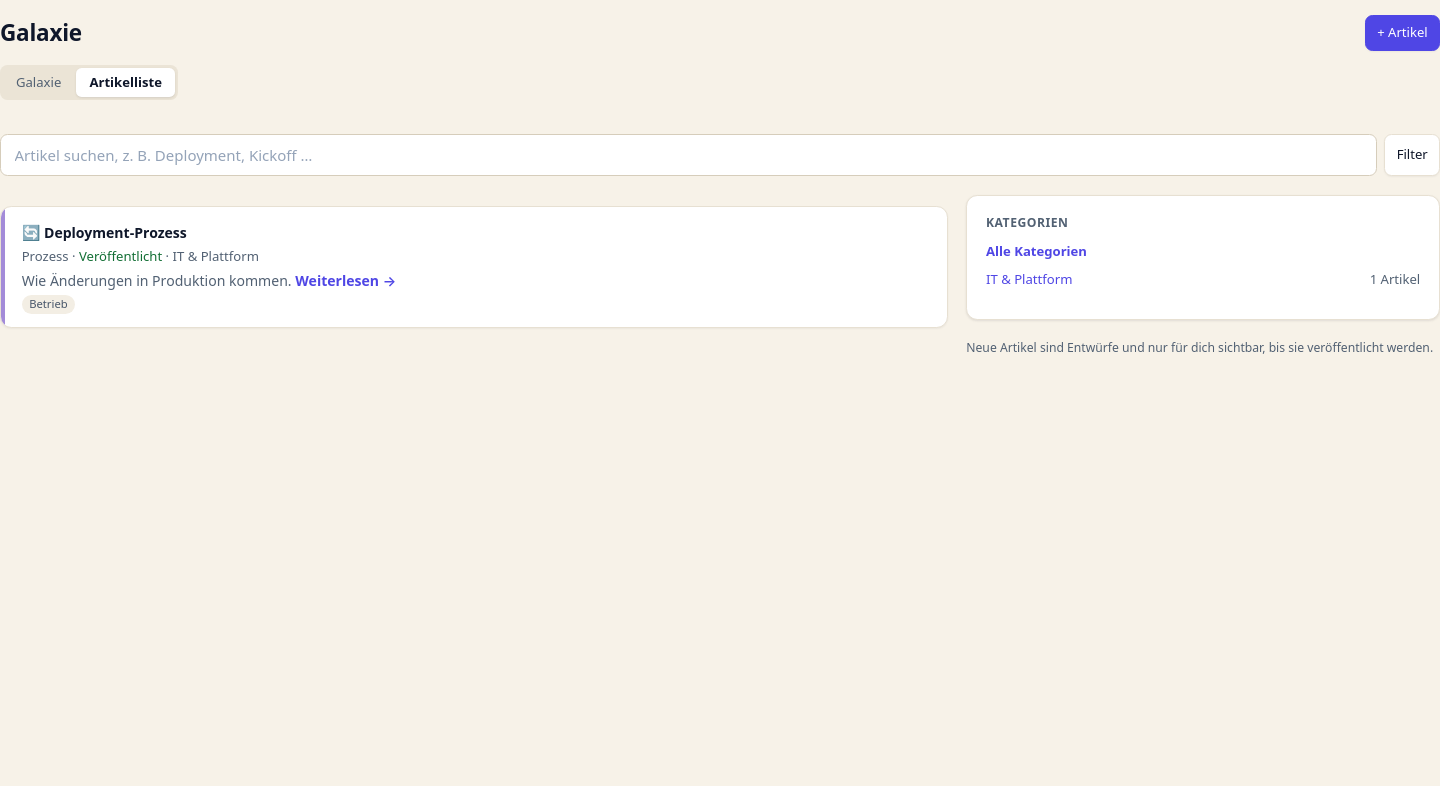
Test: KnowledgePage › renders blocks as text and resolves references the reader can see
This screenshot has width=1440, height=786.
What coordinates should you click on to do the following:
click the button "Deployment-Prozess"
I would click on:
 (115, 232)
Its box is x1=0 y1=206 x2=948 y2=328.
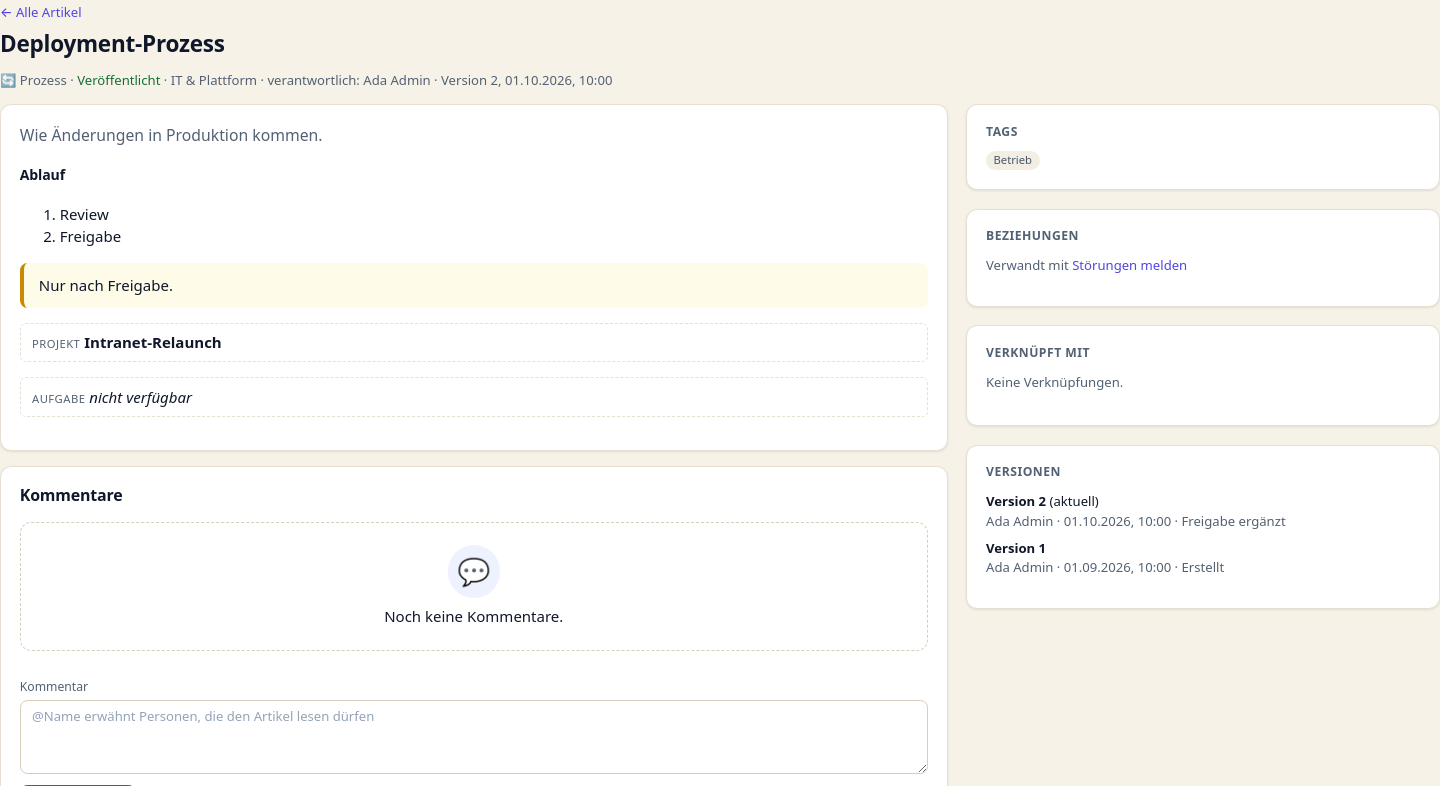
Now the heading "Ablauf" is shown, box x1=20 y1=165 x2=65 y2=184
Now the text named "Warnung" reads "Nur nach Freigabe.", box x1=39 y1=275 x2=173 y2=295
Now the text "Intranet-Relaunch" is shown, box x1=84 y1=332 x2=222 y2=352
